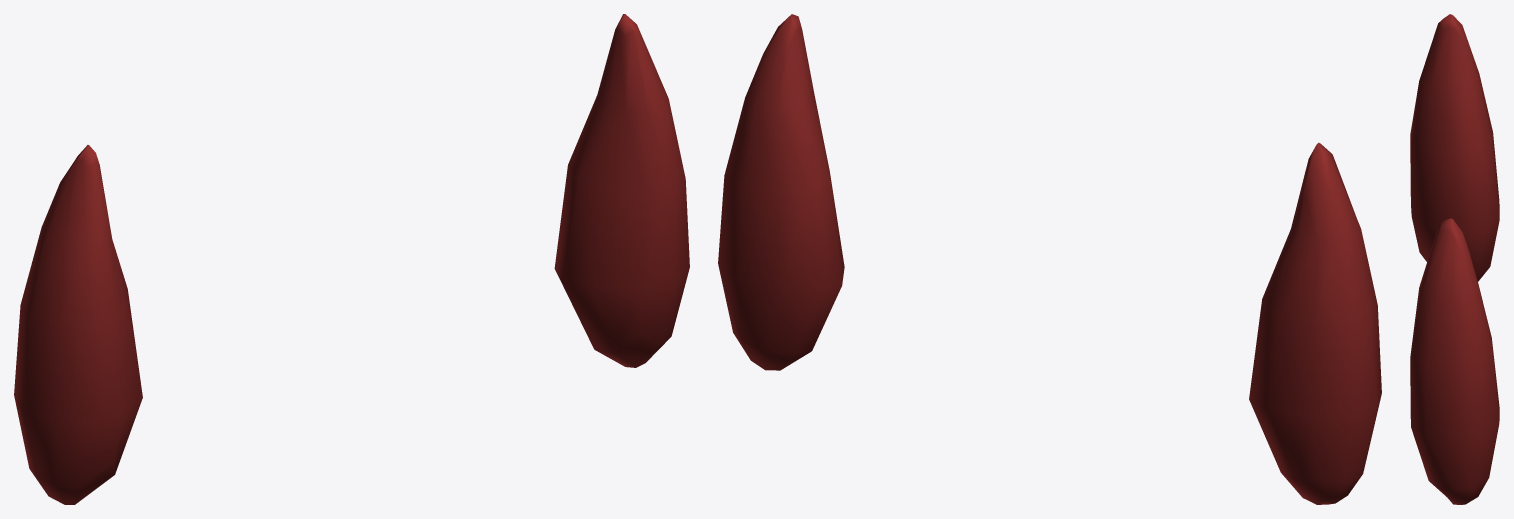
File: devil_horn1.fbx
3 renders of one model, left to right at view 1: azimuth 30°, elevation 25°; view 2: azimuth 150°, elevation 25°; view 3: azimuth 270°, elevation 25°, orthographic. The views are drawn at different scales.
Parts seen in each view (by area): view 1: horn1zremesh:polySurface1; view 2: horn1zremesh:polySurface1; view 3: horn1zremesh:polySurface1.
Boxes of the visible parts, x1,y1,x2,y2 form: horn1zremesh:polySurface1: [14, 14, 689, 504]; horn1zremesh:polySurface1: [718, 14, 1381, 504]; horn1zremesh:polySurface1: [1410, 14, 1499, 504].
Size of the model in its own units: 1.57 by 0.8114 by 0.2351.
